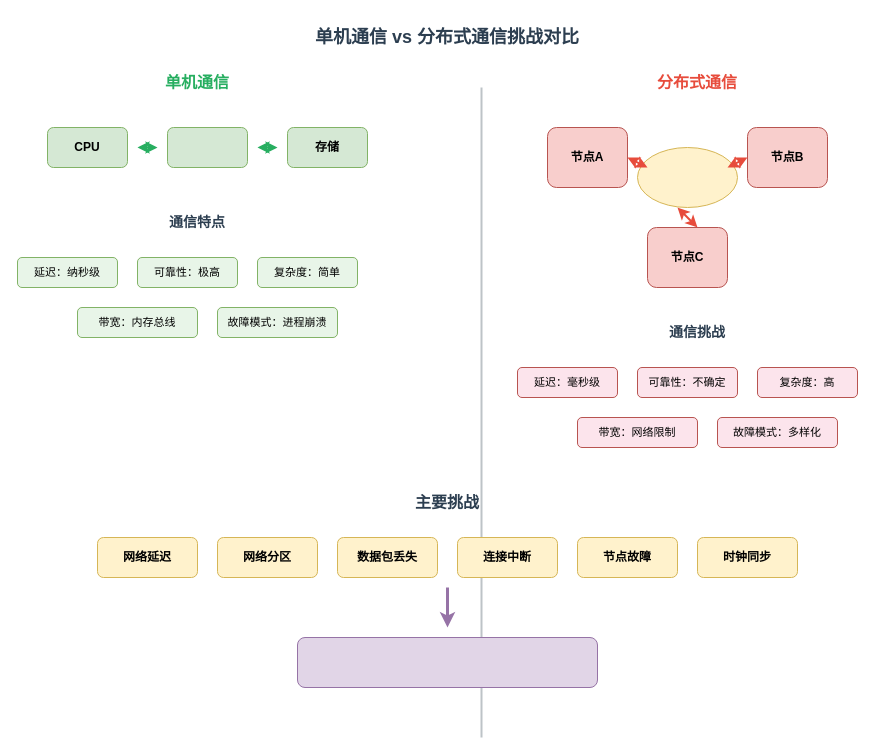
The diagram is 875 pixels wide and 756 high, and some of its shapes have lost their labels. The shapes that lost their labels are listed below. From the top down, each one's box as (x1, y1, x2, y2) in pixels, then its label:
(166, 126, 248, 168): 内存
(636, 146, 738, 208): 网络
(296, 636, 598, 688): RPC机制：屏蔽分布式通信复杂性
